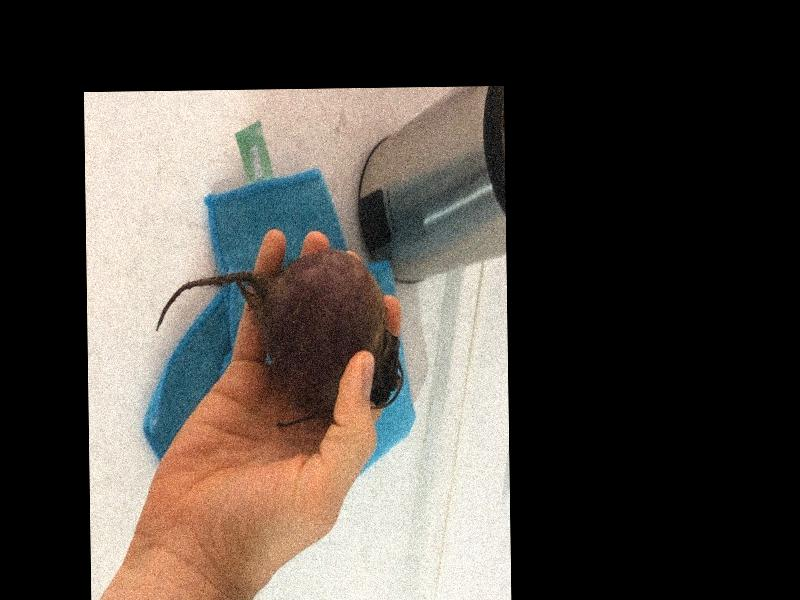Beet: (154, 249, 403, 427)
